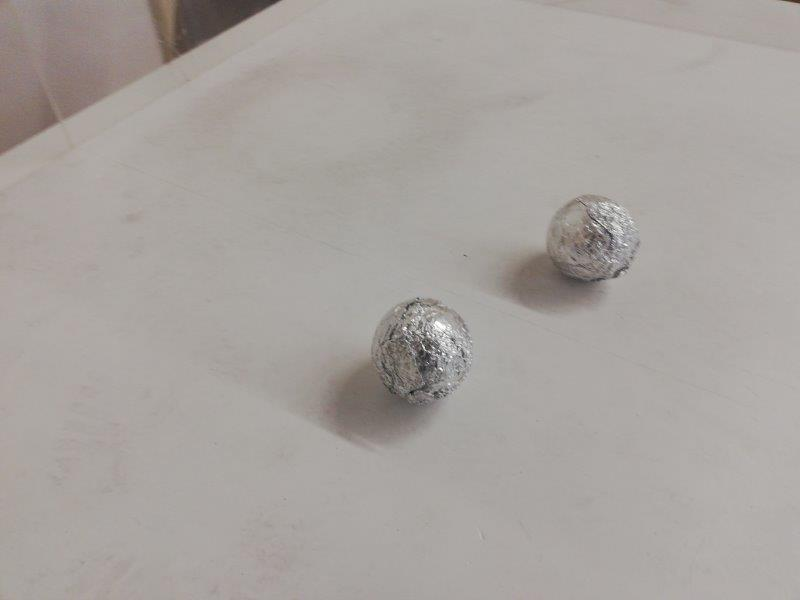bianca: (370, 295, 474, 405), (545, 194, 641, 282)
